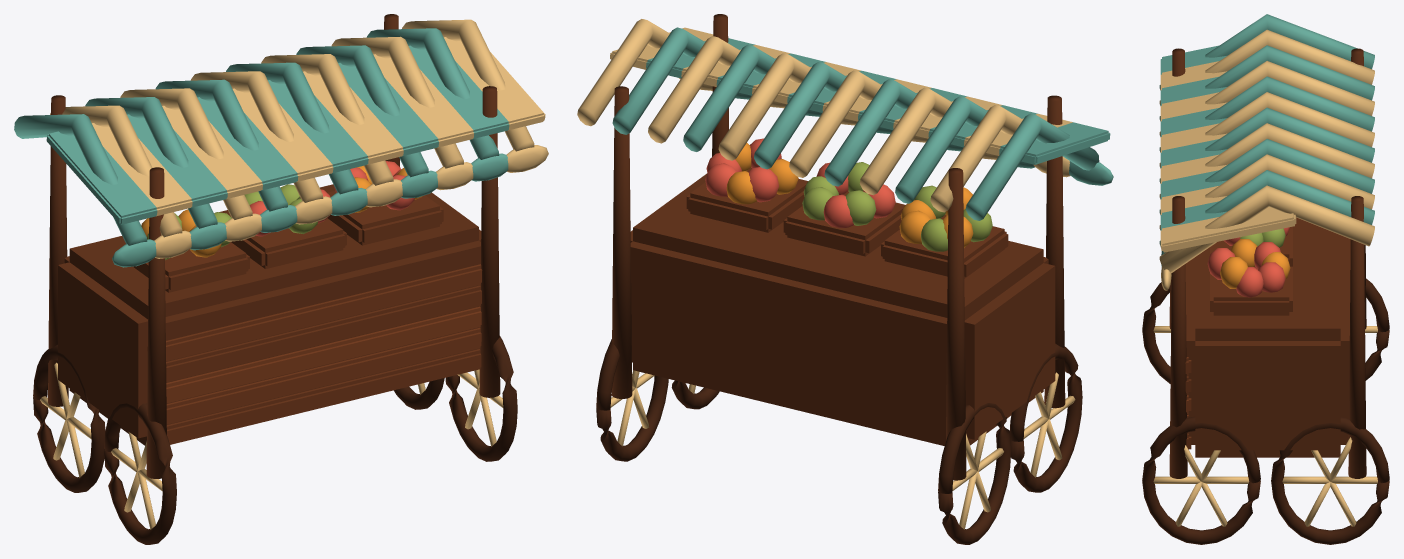
File: market-cart.glb
3 views of the same model, side by side, from view 1: azimuth 30°, elevation 25°; view 2: azimuth 150°, elevation 25°; view 3: azimuth 270°, elevation 25° (orthographic). The views are drawn at different scales.
Parts seen in each view (by area): view 1: market-cart; view 2: market-cart; view 3: market-cart.
Boxes of the visible parts, left/top/right/bottom form: market-cart: left=14, top=14, right=548, bottom=544; market-cart: left=577, top=14, right=1113, bottom=544; market-cart: left=1142, top=14, right=1389, bottom=544.
Bounding box in the file's own units: 2.3 × 2.05 × 1.25.
